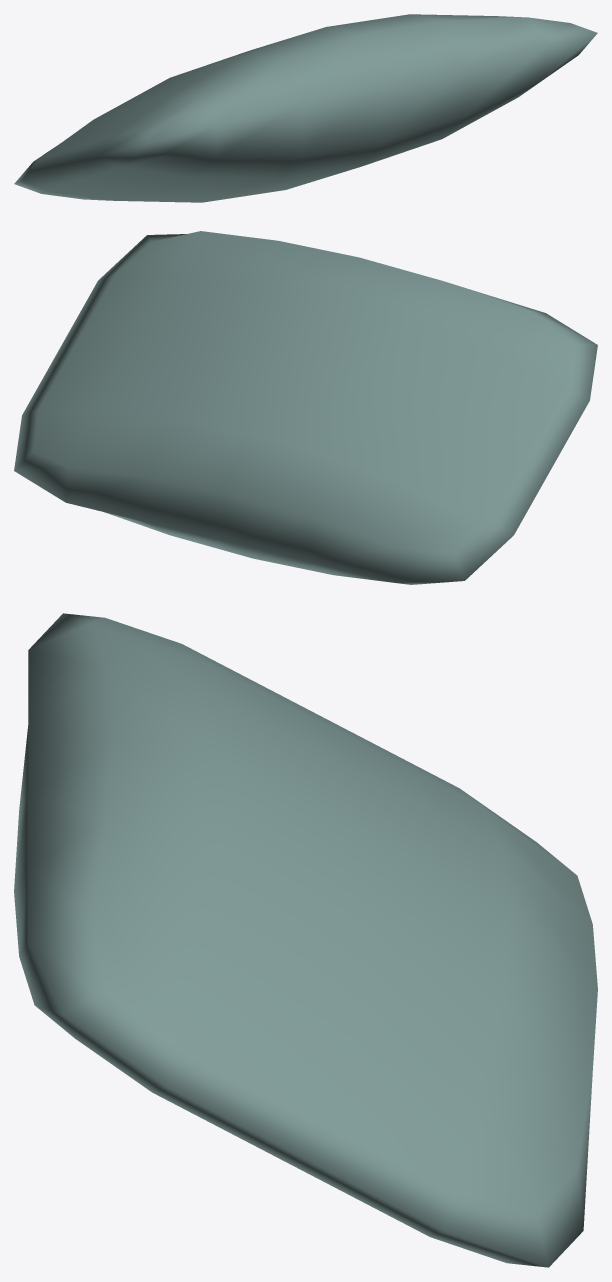
Rendered from almohada.fbx.
The picture shows the model from 3 angles, top to bottom: view 1: azimuth 30°, elevation 25°; view 2: azimuth 150°, elevation 25°; view 3: azimuth 270°, elevation 25°; orthographic projection. The views are drawn at different scales.
Visible parts, largest first — view 1: almohada; view 2: almohada; view 3: almohada.
Part boxes in pixels (bbox=[...]): almohada: bbox=[14, 14, 597, 202]; almohada: bbox=[14, 231, 597, 584]; almohada: bbox=[14, 613, 597, 1267].
Size of the model in its own units: 68 by 29.52 by 38.32.
